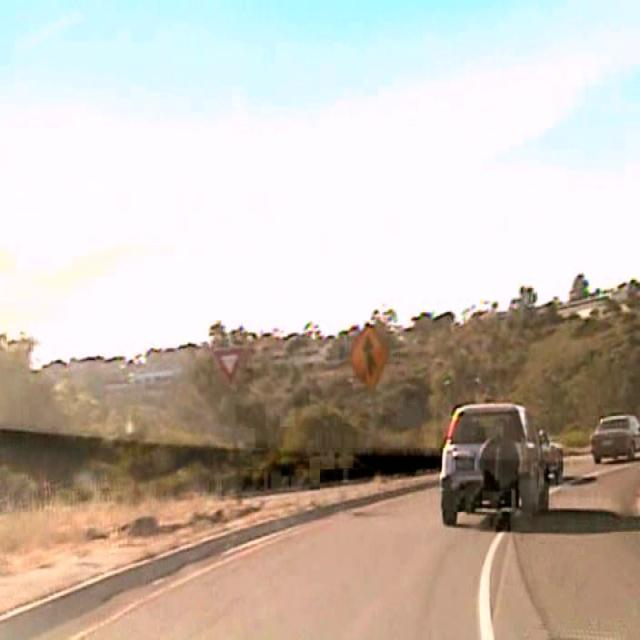yield: (212, 346, 243, 382)
